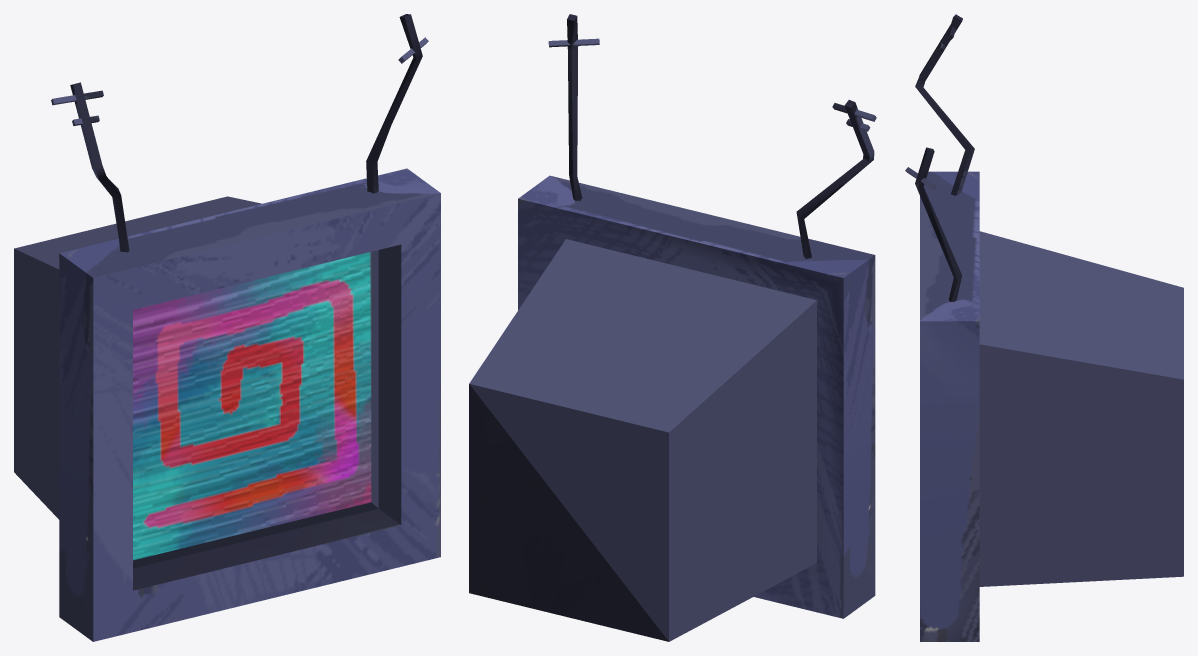
3 renders of one model, left to right at view 1: azimuth 30°, elevation 25°; view 2: azimuth 150°, elevation 25°; view 3: azimuth 270°, elevation 25°, orthographic. The views are drawn at different scales.
Visible parts, largest first — view 1: TV; view 2: TV; view 3: TV.
Part boxes in pixels (x1,y1,x2,y2): TV: [14, 14, 440, 641]; TV: [469, 14, 876, 641]; TV: [905, 14, 1183, 641].
Bounding box in the file's own units: 15.93 × 22.56 × 11.85.
